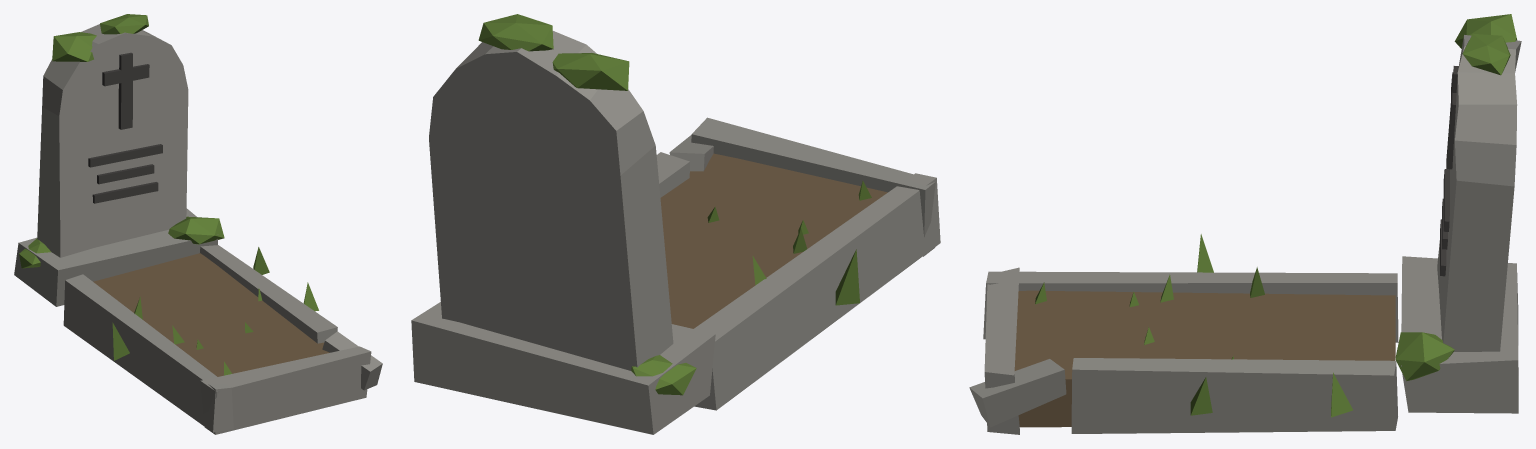
The model's file is gravestone.glb.
The picture shows the model from 3 angles, left to right: view 1: azimuth 30°, elevation 25°; view 2: azimuth 150°, elevation 25°; view 3: azimuth 270°, elevation 25°; orthographic projection. The views are drawn at different scales.
Visible parts, largest first — view 1: gravestone; view 2: gravestone; view 3: gravestone.
Part boxes in pixels (x1=…): gravestone: x1=14, y1=14, x2=382, y2=434; gravestone: x1=411, y1=14, x2=940, y2=434; gravestone: x1=969, y1=14, x2=1521, y2=434.
Size of the model in its own units: 0.9641 by 1.16 by 1.65.
